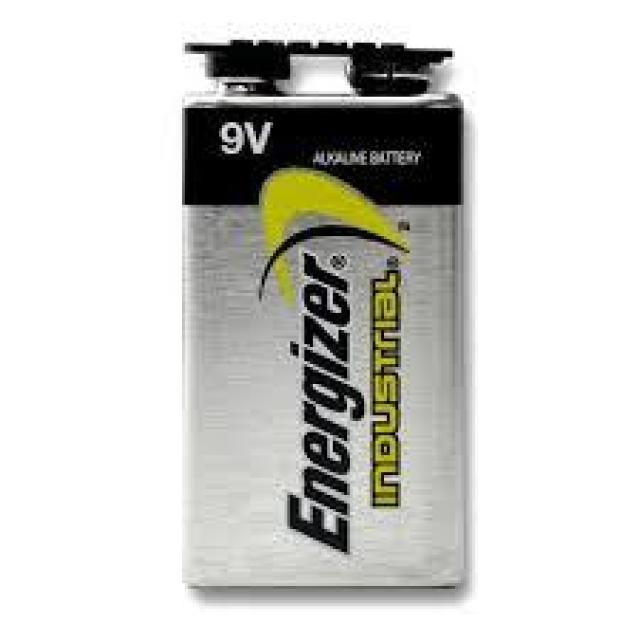9V: (166, 21, 488, 608)
